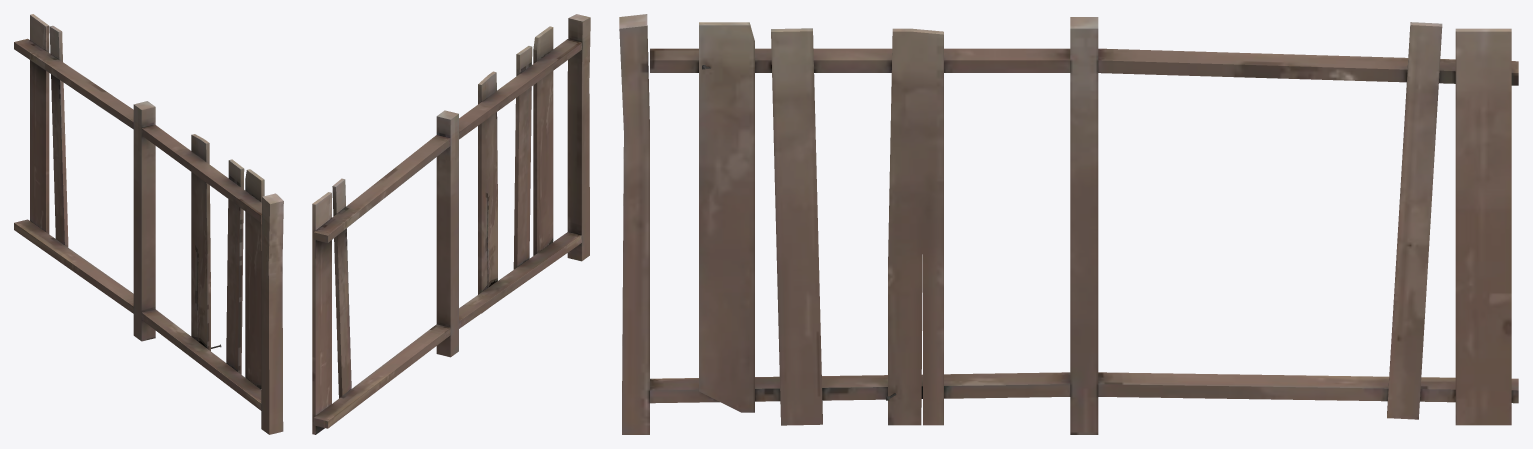
3 views of the same model, side by side, from view 1: azimuth 30°, elevation 25°; view 2: azimuth 150°, elevation 25°; view 3: azimuth 270°, elevation 25° (orthographic). The views are drawn at different scales.
Parts seen in each view (by area): view 1: body0_model0_lod0_mesh0; view 2: body0_model0_lod0_mesh0; view 3: body0_model0_lod0_mesh0.
Part boxes in pixels (box(x1,y1,x2,y2)): body0_model0_lod0_mesh0: box(14, 14, 283, 434); body0_model0_lod0_mesh0: box(312, 14, 590, 434); body0_model0_lod0_mesh0: box(619, 14, 1518, 434).
Bounding box in the file's own units: 8.12 × 65.03 × 128.
1 material, 1 textured.
